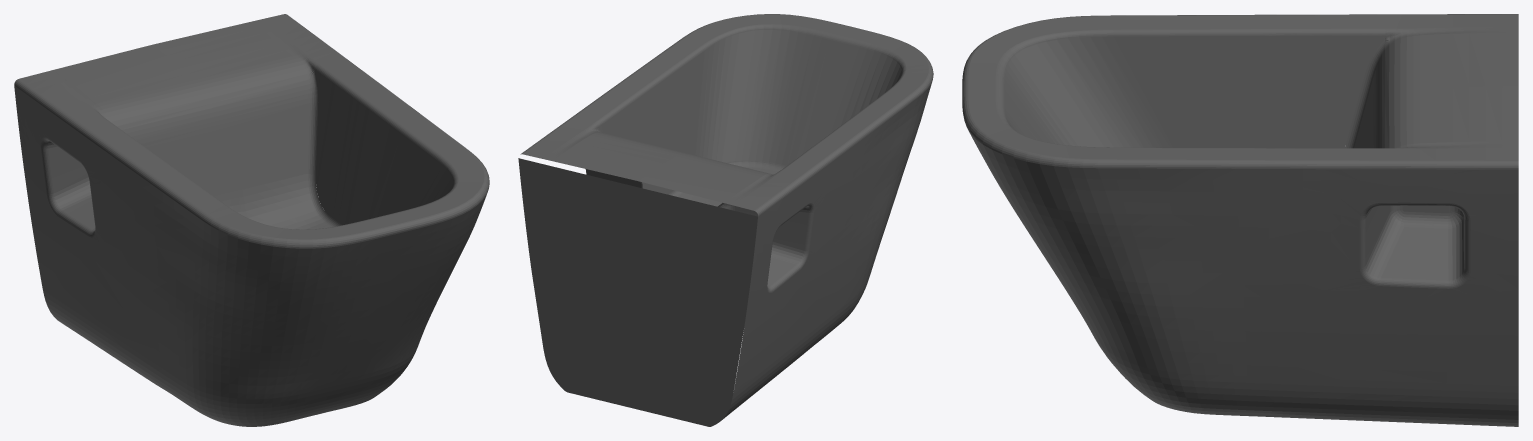
Rendered from AEC_48651.glb.
3 renders of one model, left to right at view 1: azimuth 30°, elevation 25°; view 2: azimuth 150°, elevation 25°; view 3: azimuth 270°, elevation 25°, orthographic. The views are drawn at different scales.
Parts seen in each view (by area): view 1: 0; view 2: 0; view 3: 0.
Boxes of the visible parts, box(x1,y1,x2,y2) form: 0: box(14, 14, 489, 426); 0: box(518, 14, 933, 426); 0: box(962, 14, 1518, 426).
Bounding box in the file's own units: 0.3481 × 0.317 × 0.5405.
1 material, 1 textured.
